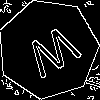W: (23, 24, 88, 88)
